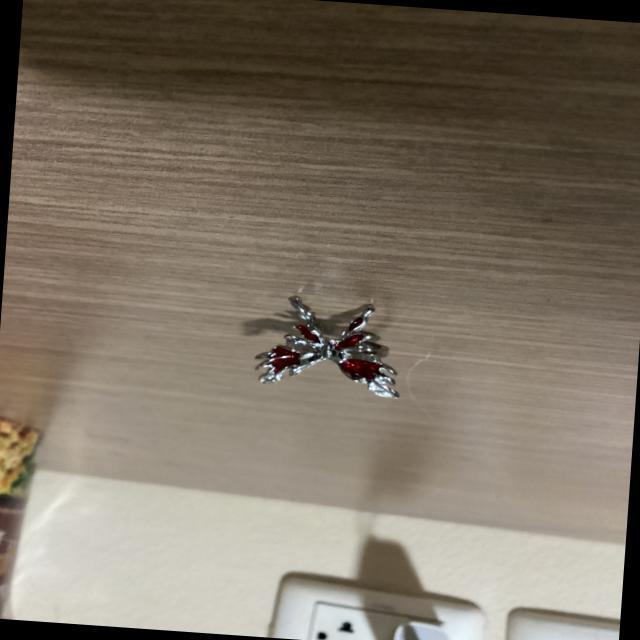Ring: (229, 271, 431, 411)
